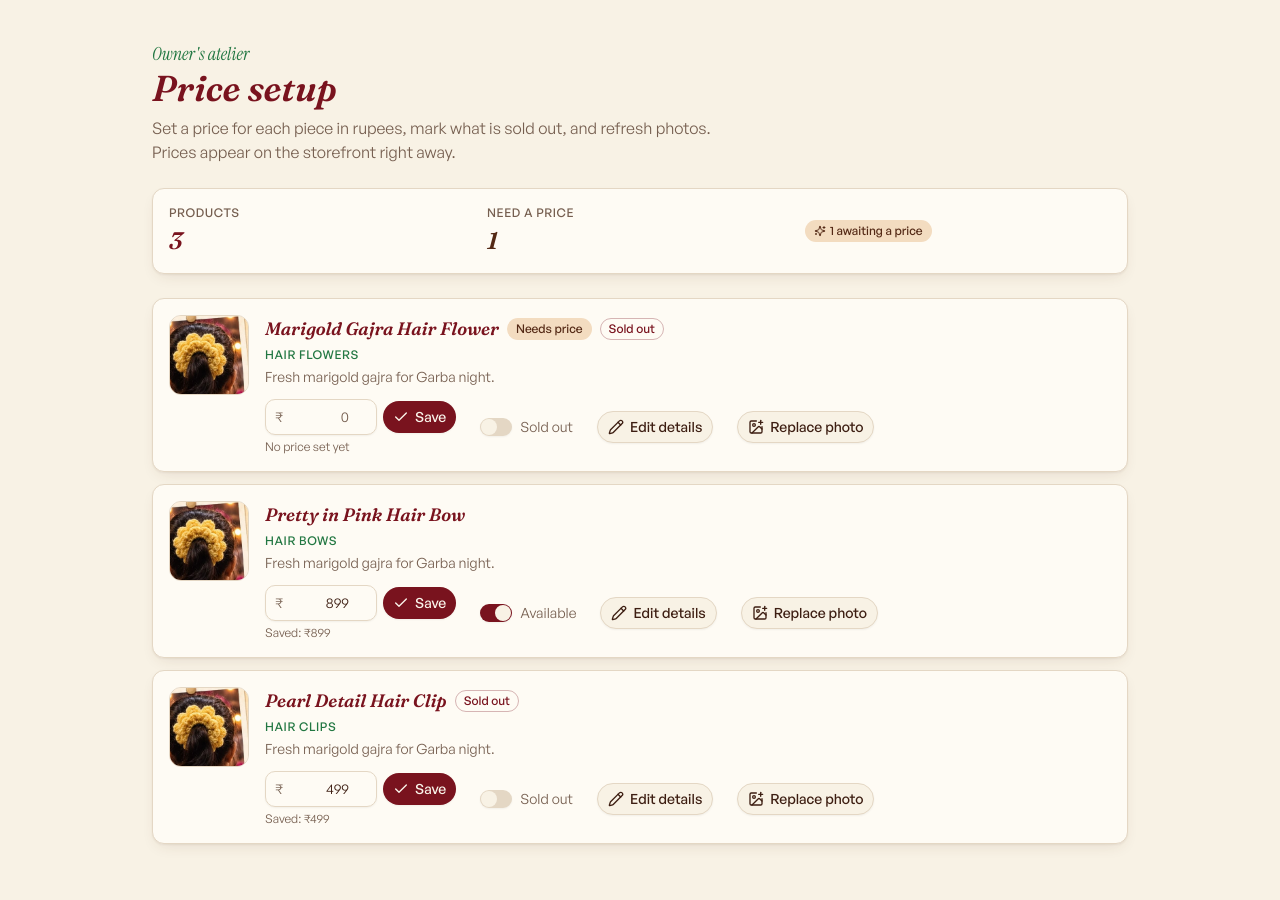
Test: AdminPage › requires a product name before saving edits
Click the button "Edit details" in the row of "No price set yet" at (655, 427), box [597,411,713,443]
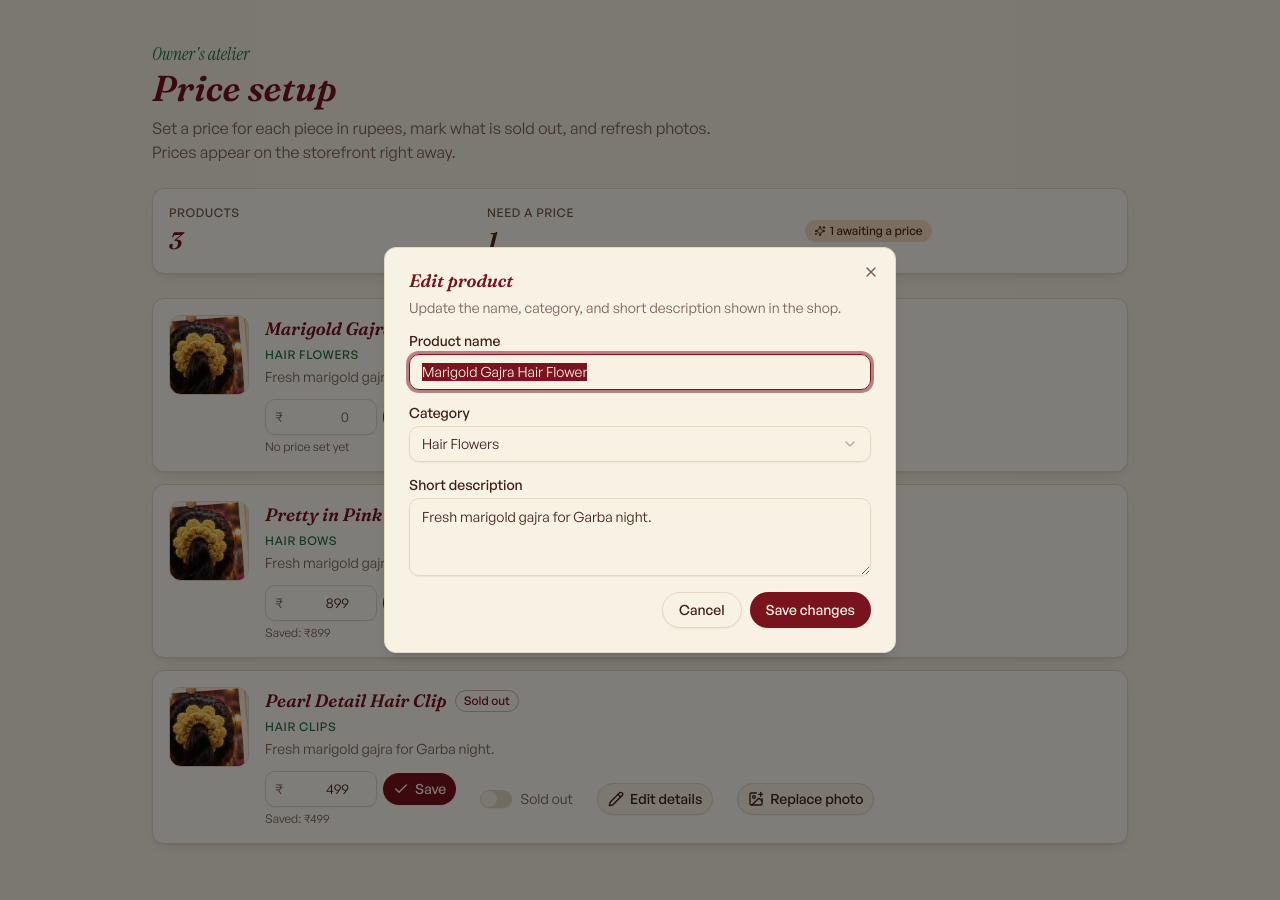
Clear the field labelled "Product name" at (640, 372), box [409,354,871,390]
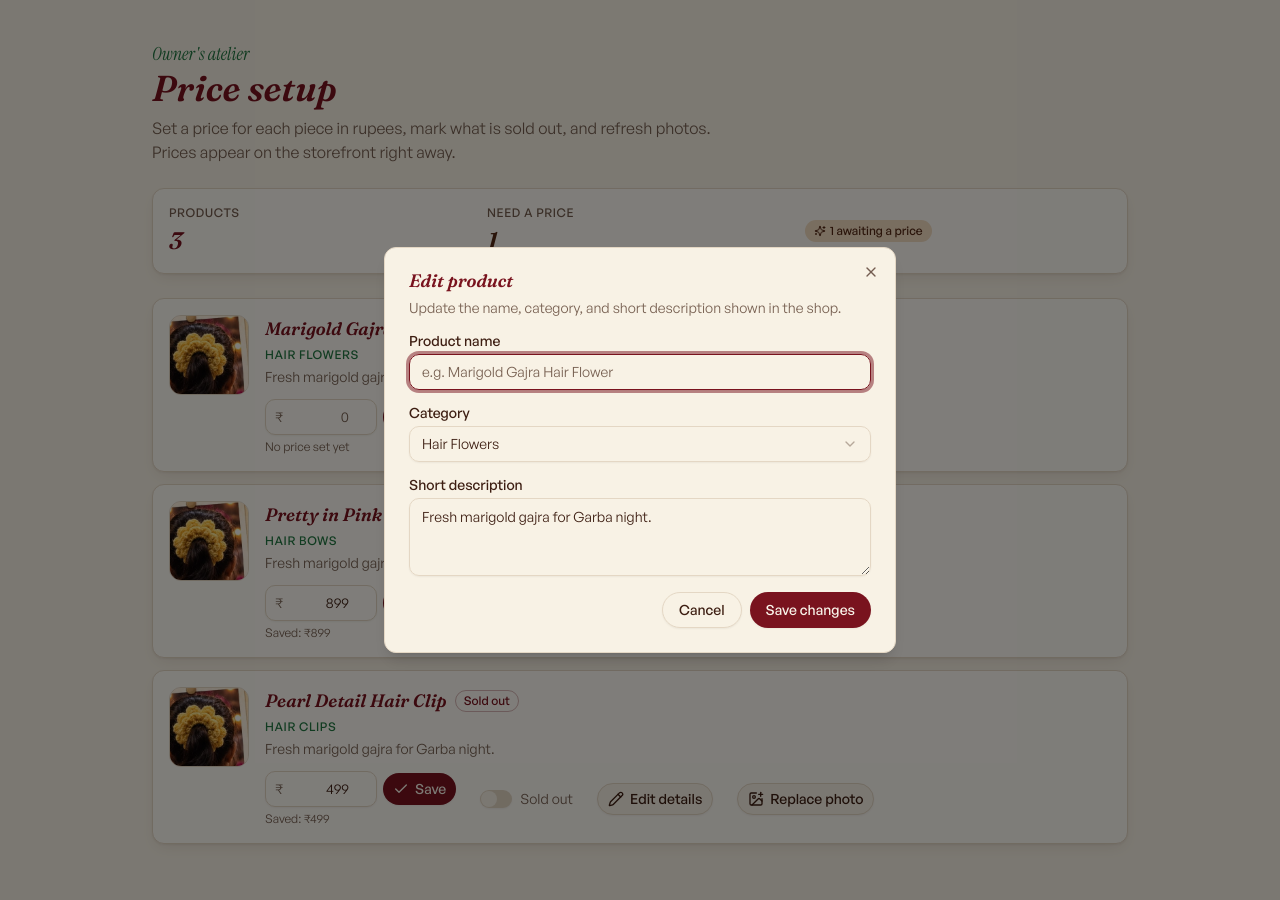
Click the button "Save changes" at (810, 610), box [750,592,871,628]
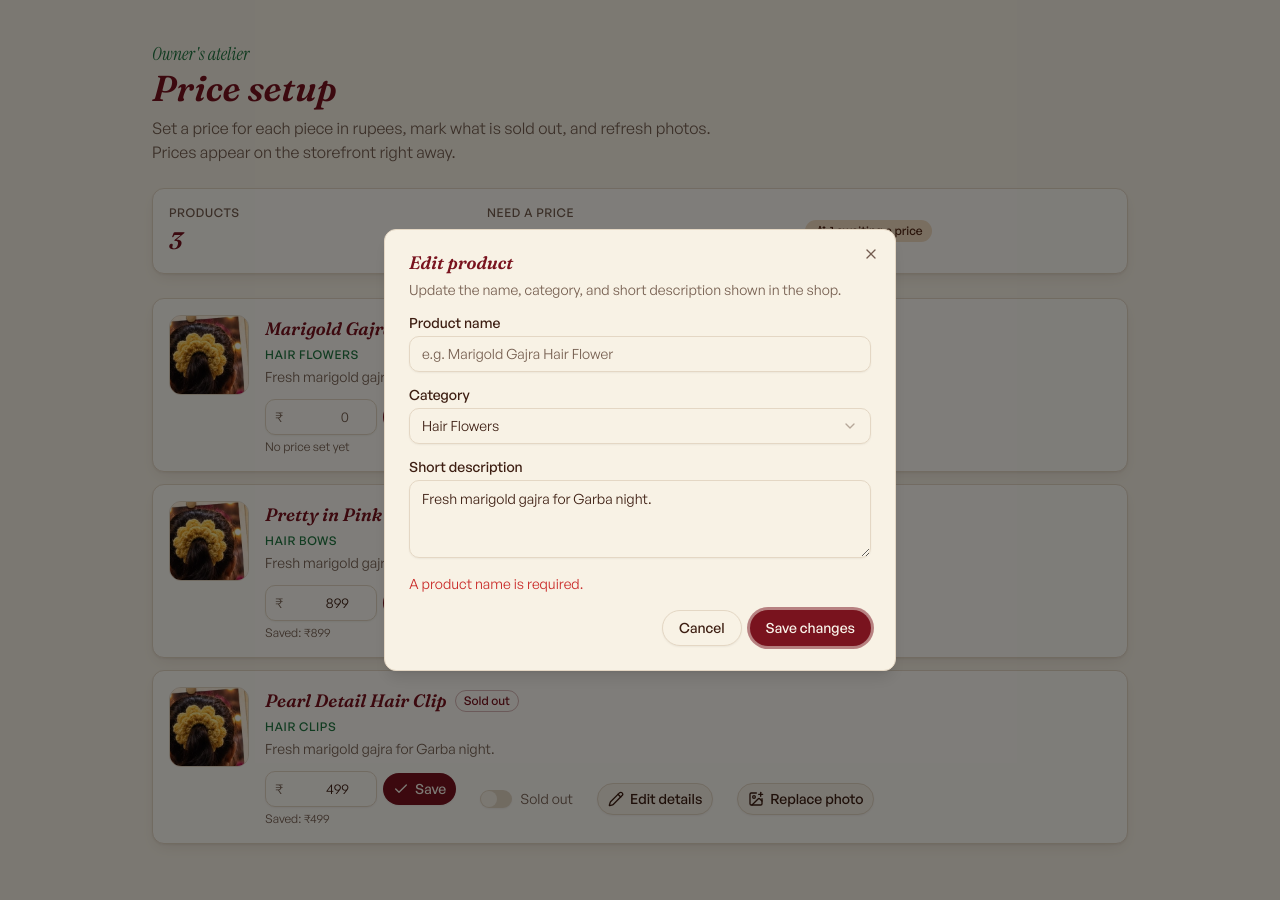
expect the text "A product name is required." is shown: met, box [409,575,583,592]
